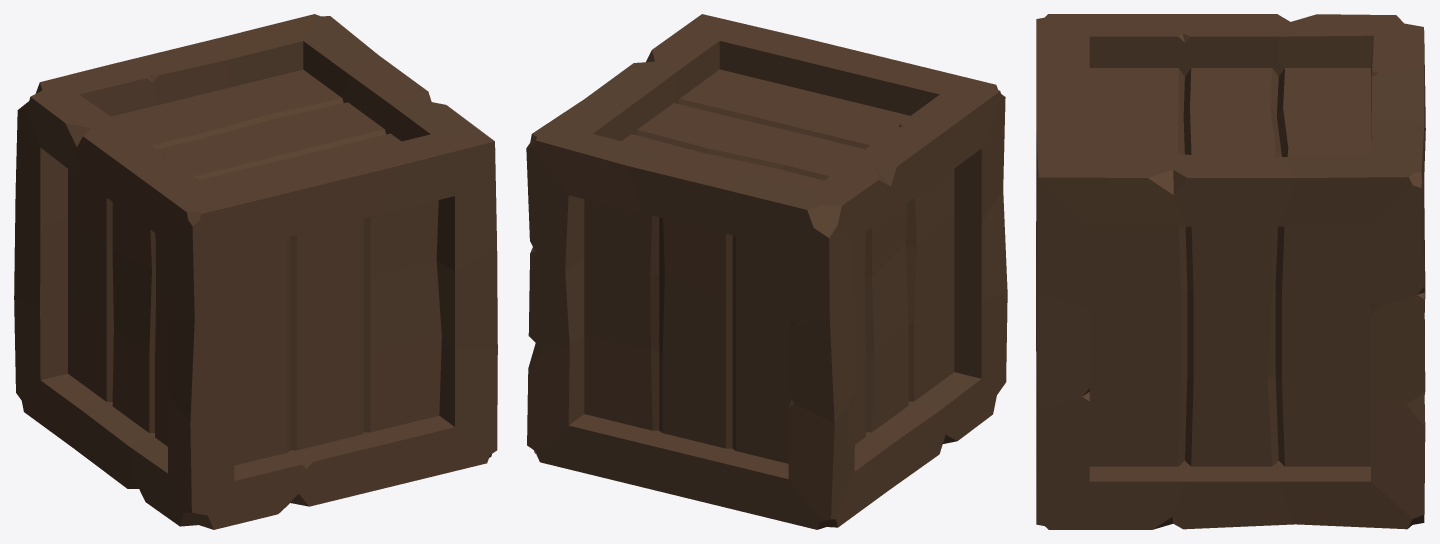
The model's file is CrateMD.fbx.
The picture shows the model from 3 angles, left to right: view 1: azimuth 30°, elevation 25°; view 2: azimuth 150°, elevation 25°; view 3: azimuth 270°, elevation 25°; orthographic projection. The views are drawn at different scales.
Parts seen in each view (by area): view 1: Crate.003; view 2: Crate.003; view 3: Crate.003.
Part boxes in pixels (x1=…): Crate.003: x1=14, y1=14, x2=497, y2=529; Crate.003: x1=526, y1=14, x2=1007, y2=529; Crate.003: x1=1036, y1=14, x2=1425, y2=529.
Bounding box in the file's own units: 120 × 121 × 122.
